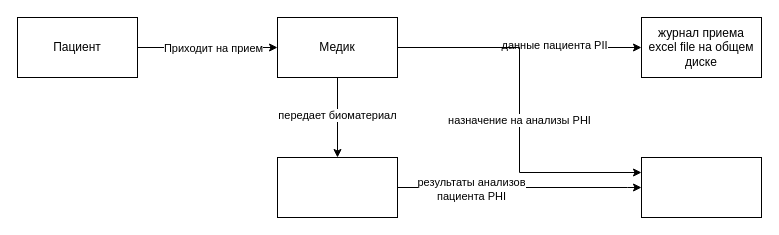
Image size: 779x235. Some labels were removed from this diagram. The shapes that lost their labels are listed below. From the top down, each one's centre as x and y in pixels, then its label:
At (337,187): "Лаборатория".
At (701,187): "анализы excel file на общем диске".
